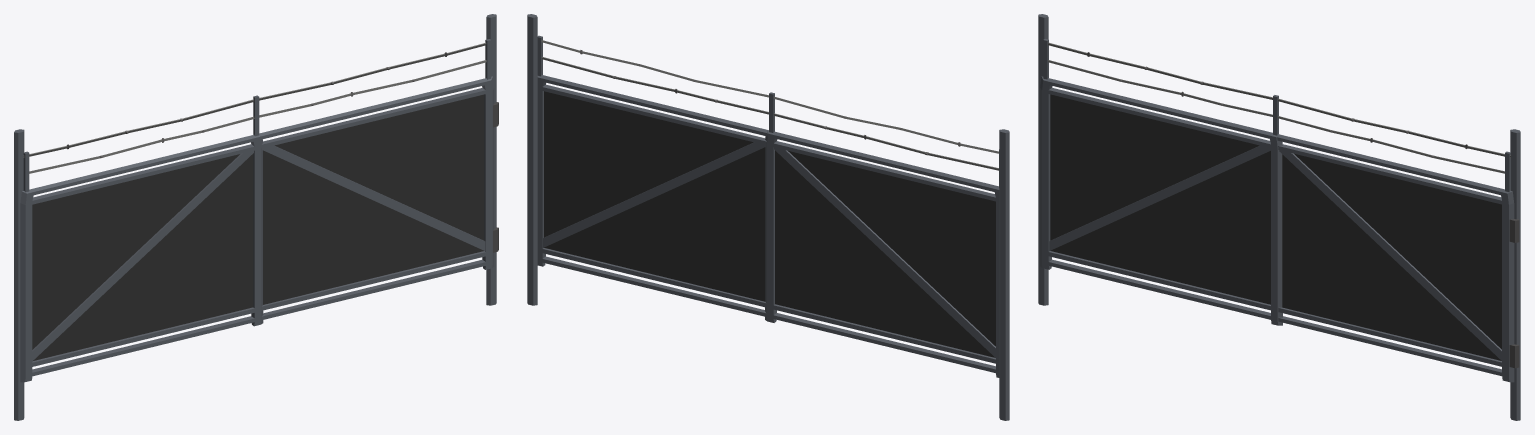
File: SM_Prop_Fence_Gate_01.fbx
3 views of the same model, side by side, from view 1: azimuth 30°, elevation 25°; view 2: azimuth 150°, elevation 25°; view 3: azimuth 330°, elevation 25° (orthographic).
Visible parts, largest first — view 1: SM_Prop_Fence_Gate_Open_01, SM_Prop_Fence_Gate_01; view 2: SM_Prop_Fence_Gate_Open_01, SM_Prop_Fence_Gate_01; view 3: SM_Prop_Fence_Gate_Open_01, SM_Prop_Fence_Gate_01.
Boxes of the visible parts, x1,y1,x2,y2 form: SM_Prop_Fence_Gate_Open_01: [20, 39, 498, 382]; SM_Prop_Fence_Gate_01: [14, 14, 496, 420]; SM_Prop_Fence_Gate_Open_01: [537, 35, 999, 377]; SM_Prop_Fence_Gate_01: [527, 14, 1009, 420]; SM_Prop_Fence_Gate_Open_01: [1040, 39, 1519, 382]; SM_Prop_Fence_Gate_01: [1038, 14, 1520, 420].
Size of the model in its own units: 603 by 344 by 12.07.
